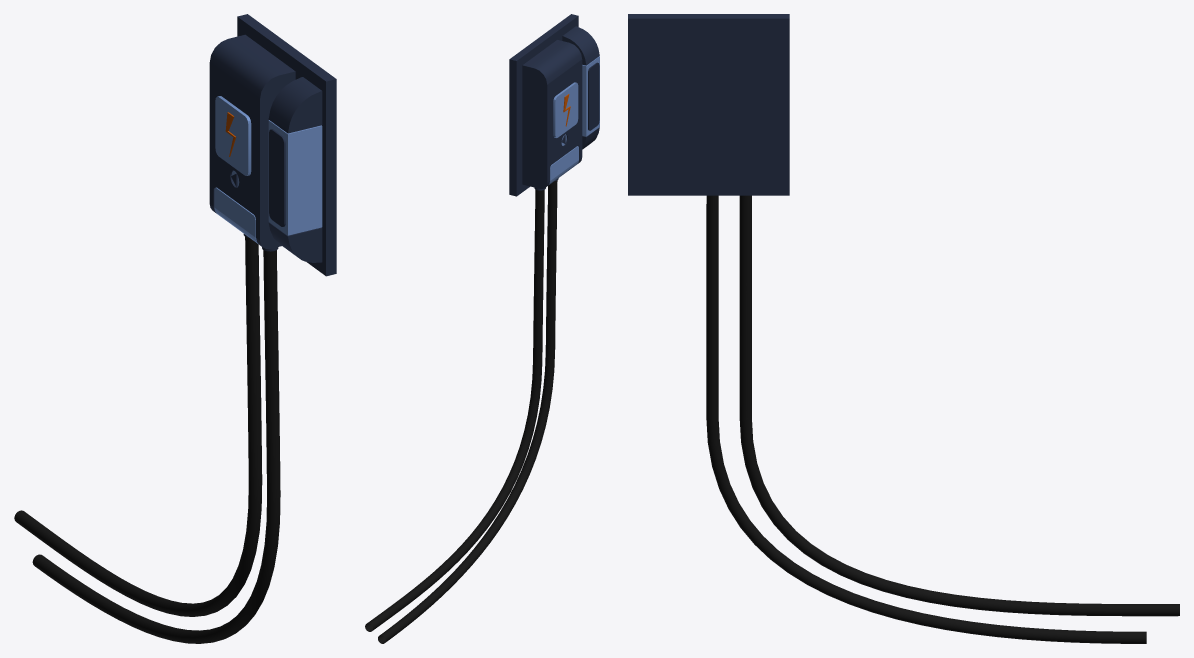
The model's file is electronical.fbx.
3 views of the same model, side by side, from view 1: azimuth 30°, elevation 25°; view 2: azimuth 150°, elevation 25°; view 3: azimuth 270°, elevation 25° (orthographic). The views are drawn at different scales.
Parts seen in each view (by area): view 1: Cube.114.frozen, Fluent_Wire.025.frozen, Fluent_Wire.024.frozen; view 2: Cube.114.frozen, Fluent_Wire.025.frozen, Fluent_Wire.024.frozen; view 3: Cube.114.frozen, Fluent_Wire.025.frozen, Fluent_Wire.024.frozen.
Part boxes in pixels (<box>): Cube.114.frozen: <box>209,14,336,276</box>; Fluent_Wire.025.frozen: <box>32,250,280,643</box>; Fluent_Wire.024.frozen: <box>14,236,262,616</box>; Cube.114.frozen: <box>509,14,599,196</box>; Fluent_Wire.025.frozen: <box>378,180,557,643</box>; Fluent_Wire.024.frozen: <box>365,189,544,631</box>; Cube.114.frozen: <box>628,14,789,195</box>; Fluent_Wire.025.frozen: <box>706,195,1146,643</box>; Fluent_Wire.024.frozen: <box>739,195,1179,616</box>.
Size of the model in its own units: 16.37 by 216 by 171.
